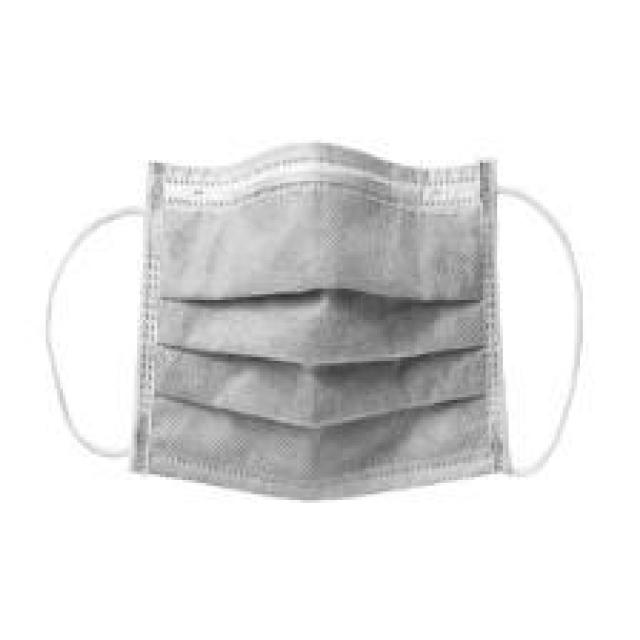Mask: (58, 144, 606, 518)
